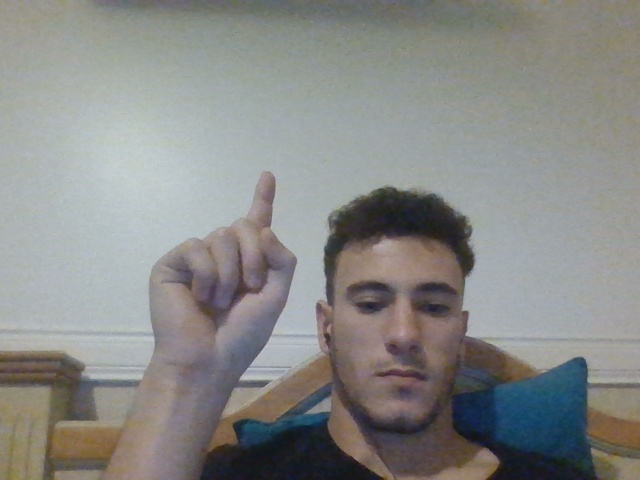Up: (147, 172, 297, 365)
